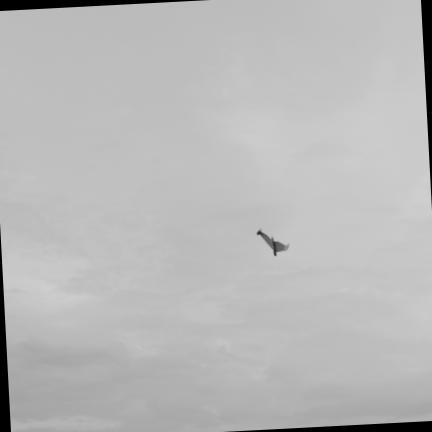Shahed: (258, 230, 288, 255)
